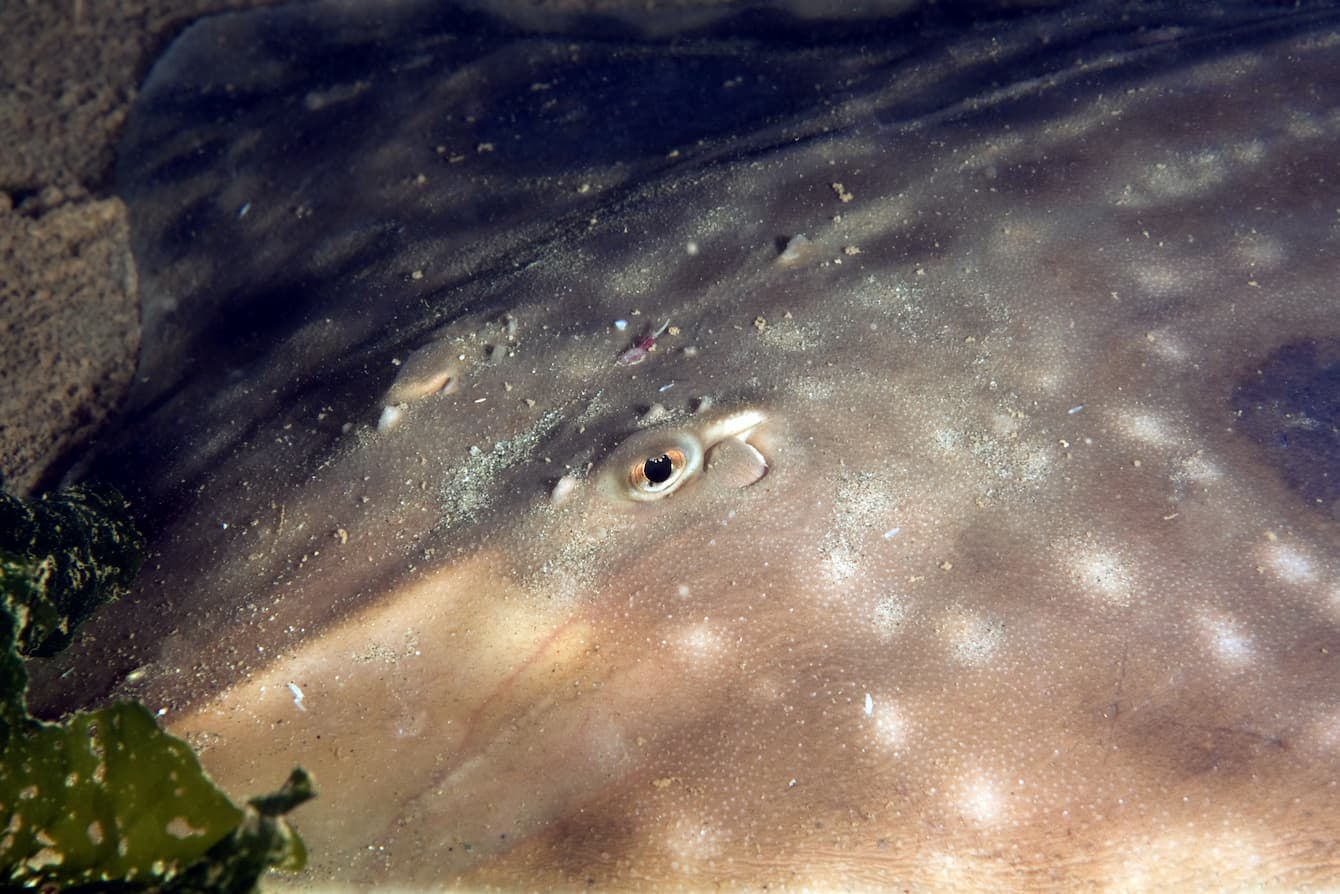Big Skate: (3, 3, 1340, 890)
